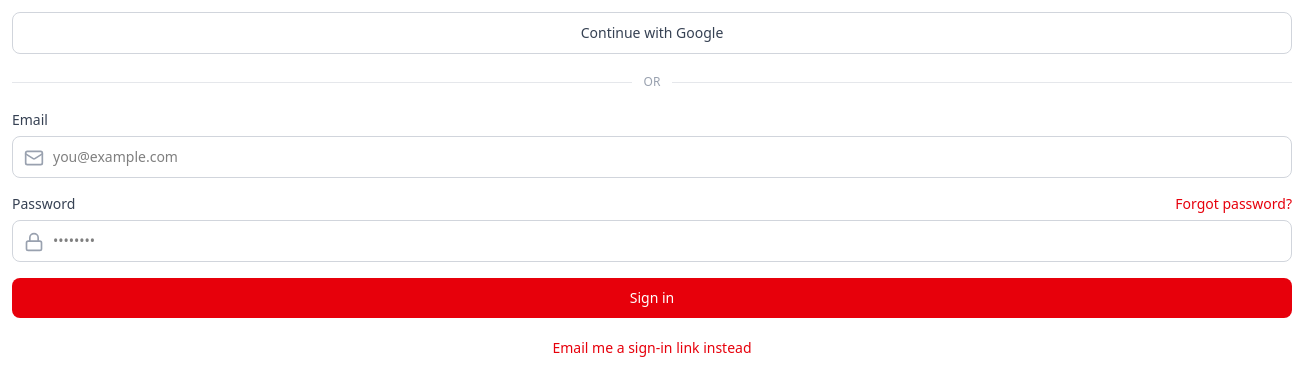
LoginForm › 📋 toggling to magic-link mode hides the password field and renames the submit button
The image size is (1304, 375).
Click the button "Email me a sign-in link instead" at (652, 348), box [12, 338, 1292, 358]
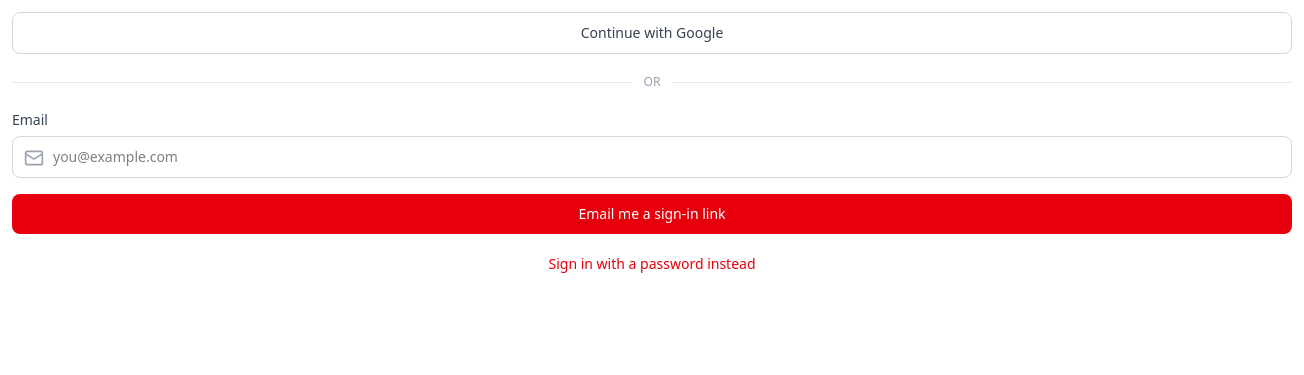
Check: the button "Email me a sign-in link" is shown, box [12, 194, 1292, 234]
